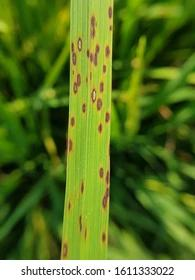Bercak Coklat: (86, 14, 99, 39), (77, 180, 88, 196), (99, 195, 109, 210), (68, 114, 77, 130), (70, 81, 80, 95), (98, 230, 108, 244), (67, 138, 75, 155), (103, 44, 111, 60), (70, 50, 78, 66), (95, 165, 104, 179), (97, 79, 105, 94), (99, 64, 109, 75), (92, 50, 98, 68), (96, 97, 103, 112), (75, 73, 83, 86), (96, 122, 103, 136), (80, 102, 87, 115), (69, 40, 76, 53), (107, 5, 113, 20), (105, 169, 110, 186), (66, 200, 73, 212), (94, 42, 100, 54), (83, 47, 90, 57), (88, 52, 93, 64), (108, 24, 114, 33)
